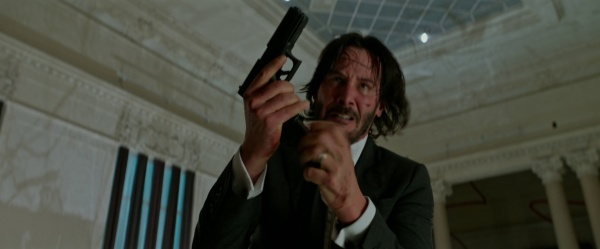gun: (236, 6, 312, 148)
